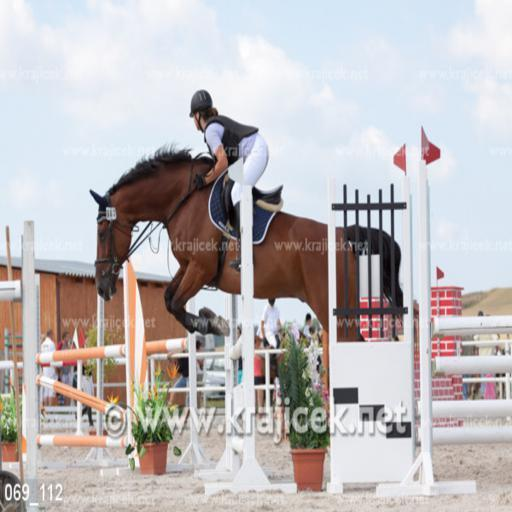horse: (88, 141, 404, 342)
